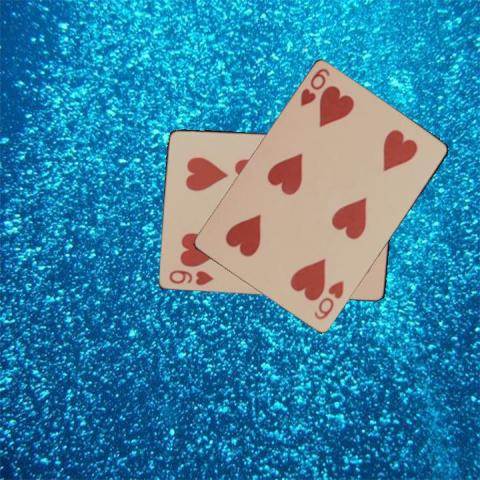6h: (311, 277, 345, 322), (298, 65, 331, 108)
9h: (166, 267, 216, 286)
